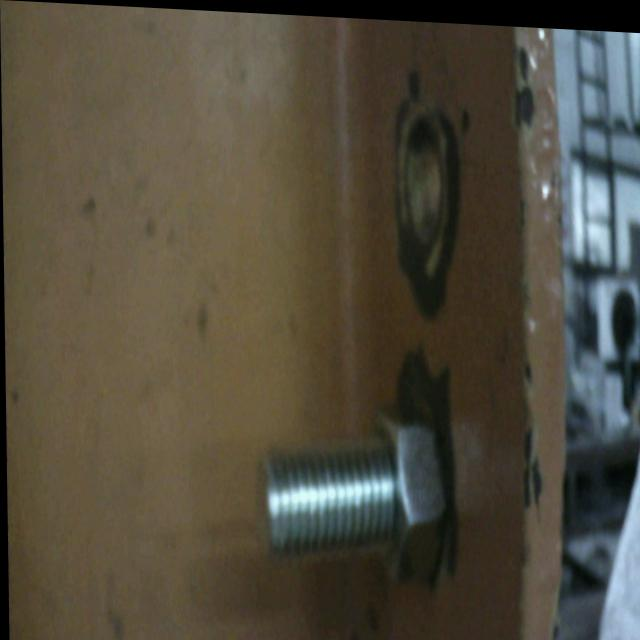Missing bolt: (401, 105, 448, 253)
Regular bolt: (255, 402, 449, 582)
